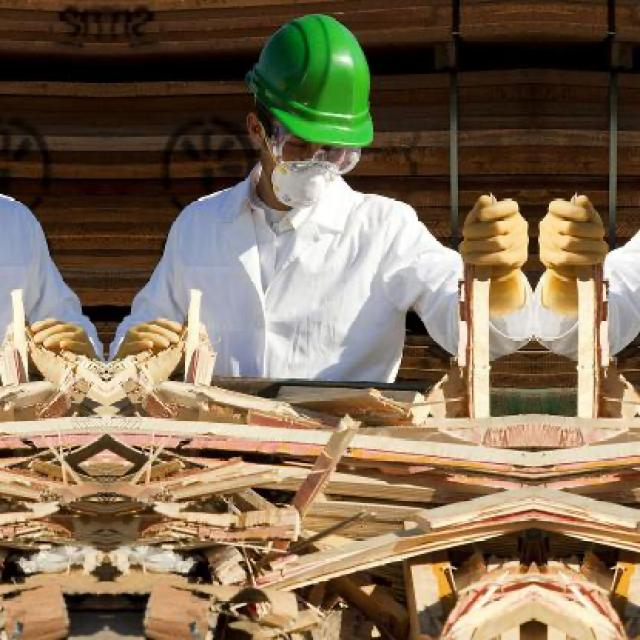helmet: (228, 0, 400, 209)
